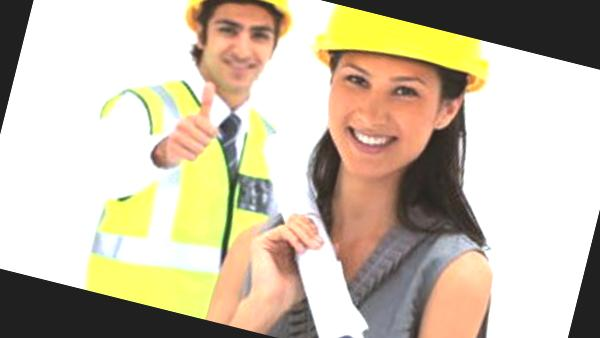helmet: (305, 2, 507, 92), (166, 0, 303, 36)
no_vest: (243, 195, 487, 338)
person: (233, 0, 539, 338), (55, 0, 322, 328)
